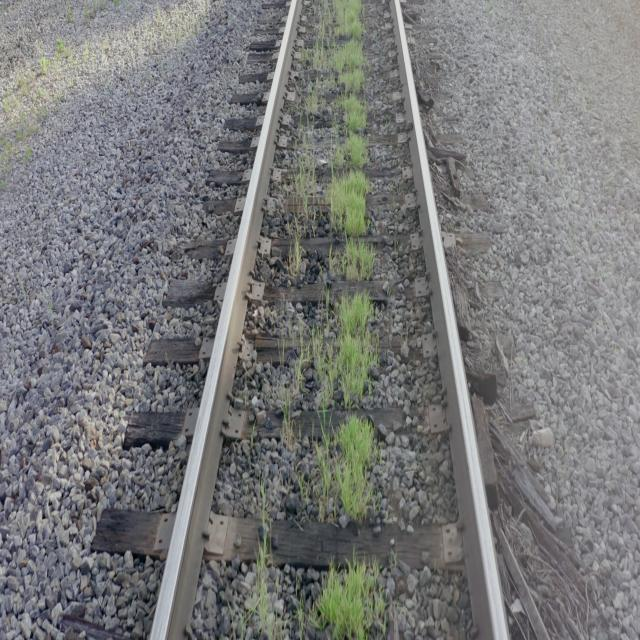Plant: (292, 0, 375, 282), (284, 293, 378, 522), (309, 558, 385, 640), (254, 536, 280, 638), (290, 236, 301, 273)
